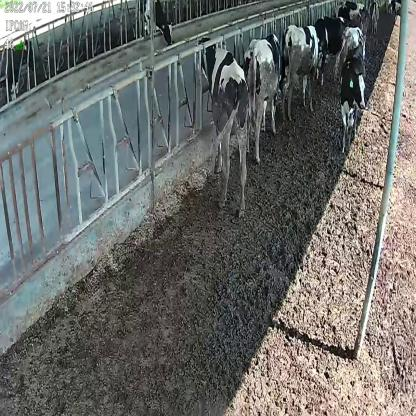cow: (198, 31, 250, 221), (244, 31, 284, 168), (283, 18, 322, 119), (338, 43, 371, 157)
